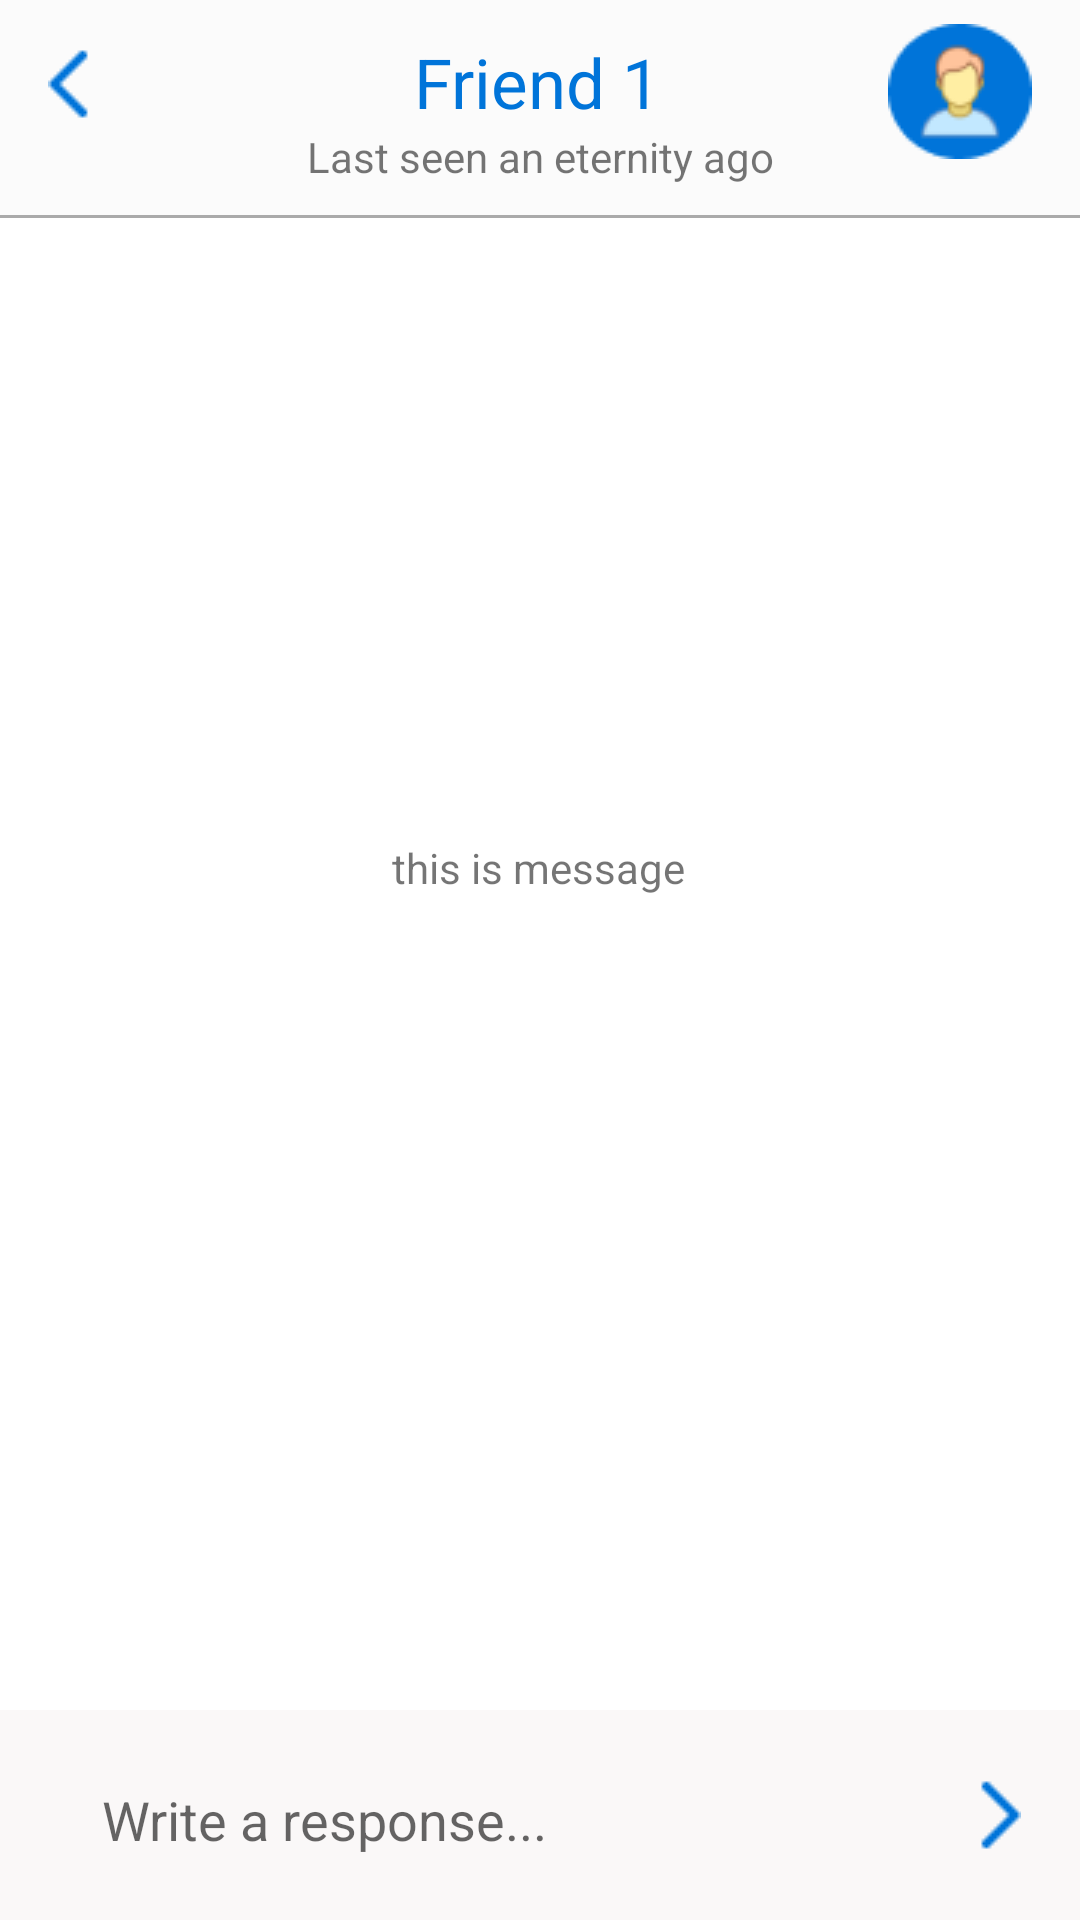

Screen size 1080*1920. Icon name, then its box in pixels as (x1, y1, x2, y2):
back arrow: (48, 50, 88, 118)
friend profile: (888, 24, 1032, 159)
front arrow: (981, 1781, 1021, 1849)
